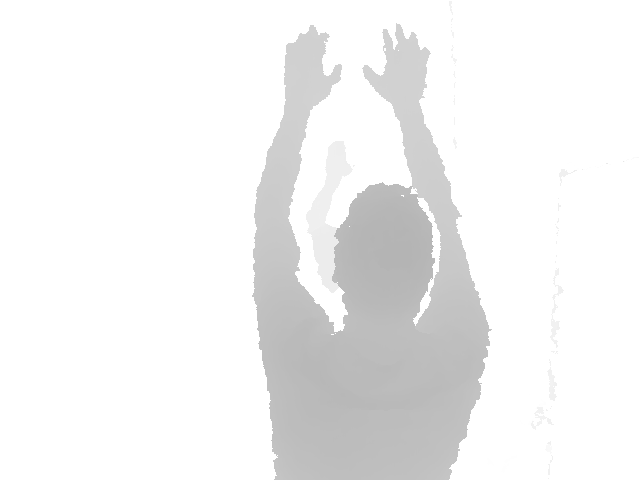hand: (363, 24, 430, 112), (283, 25, 342, 111), (325, 141, 352, 181)
head: (332, 183, 434, 334)
person: (252, 24, 491, 480), (305, 141, 346, 294)
